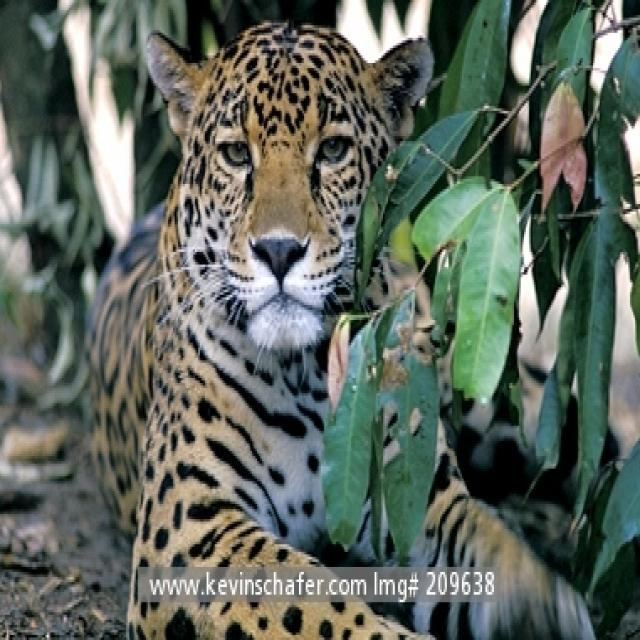Leopard: (77, 20, 595, 635)
